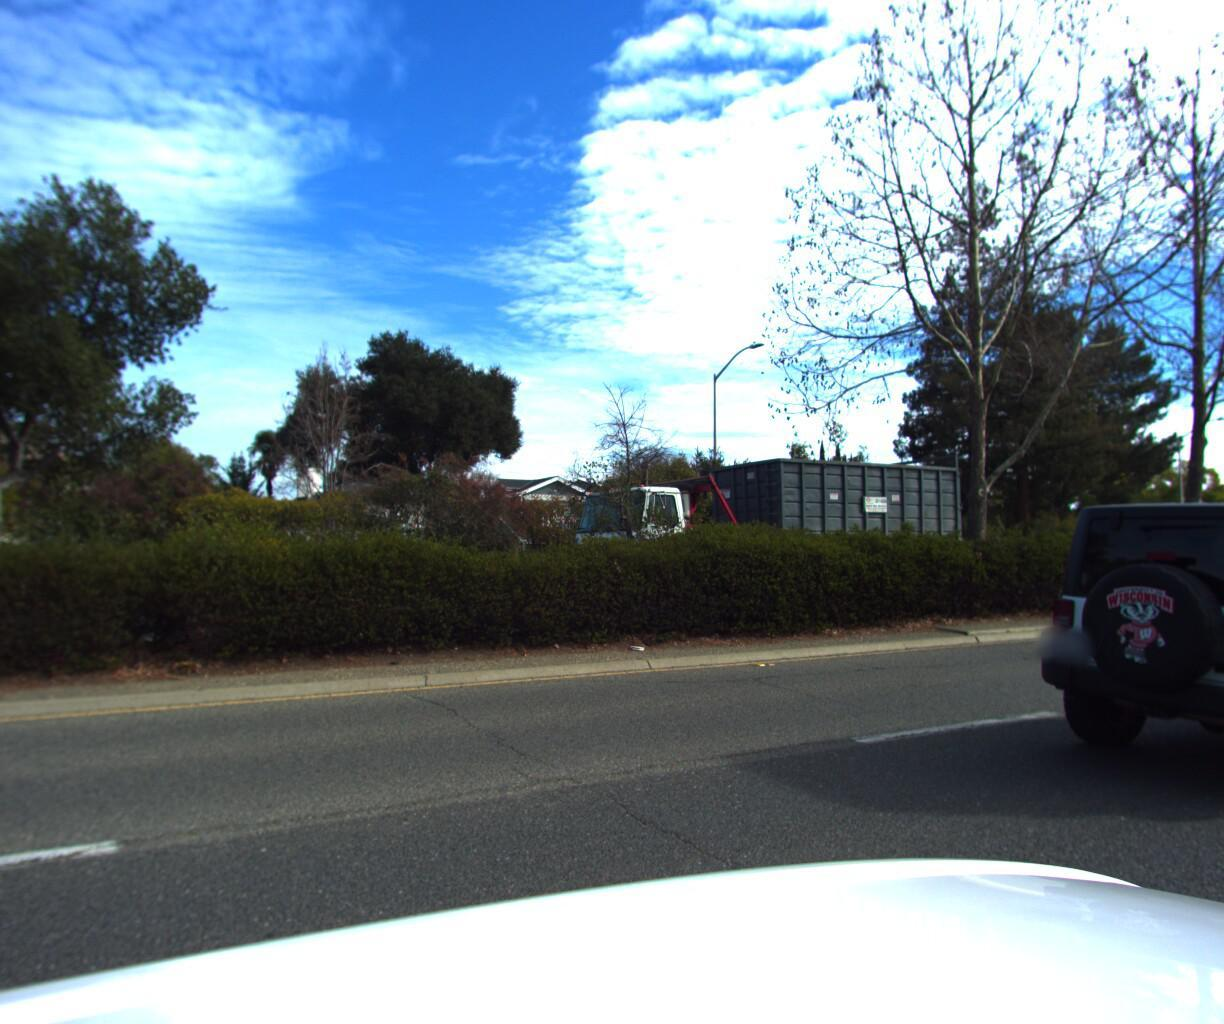car: (993, 479, 1224, 822)
truck: (548, 425, 982, 601)
